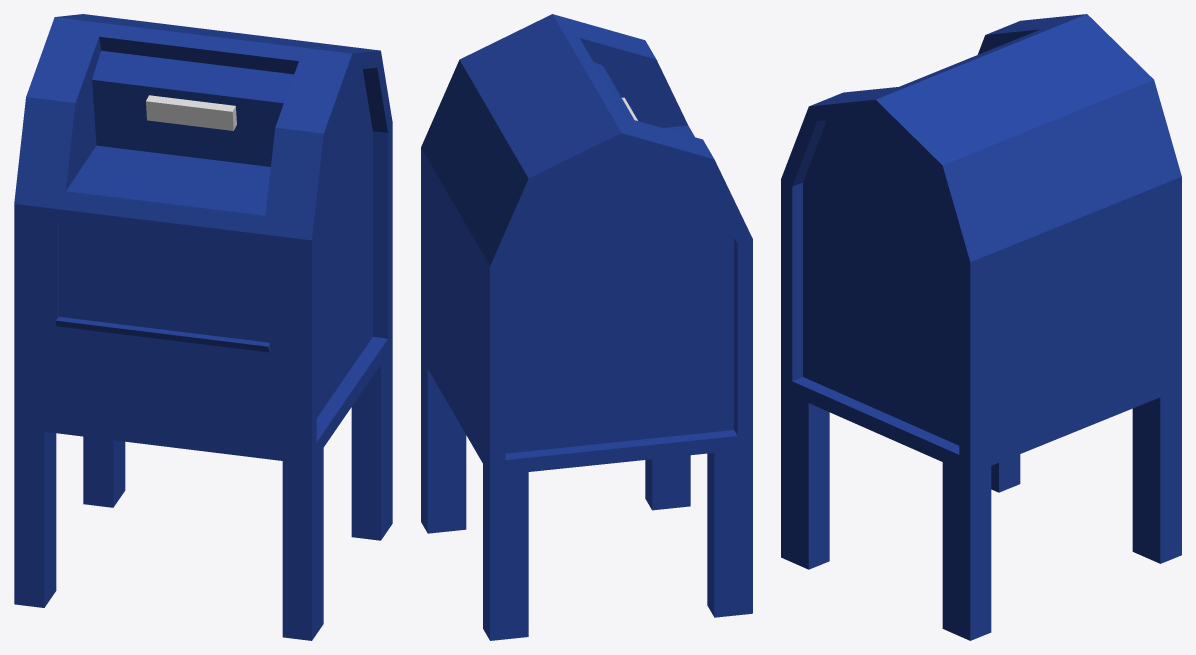
The model's file is Mail.fbx.
The picture shows the model from 3 angles, left to right: view 1: azimuth 30°, elevation 25°; view 2: azimuth 150°, elevation 25°; view 3: azimuth 270°, elevation 25°; orthographic projection. The views are drawn at different scales.
Visible parts, largest first — view 1: Mail; view 2: Mail; view 3: Mail.
Boxes of the visible parts, x1,y1,x2,y2 form: Mail: (14, 14, 392, 640); Mail: (421, 14, 752, 640); Mail: (781, 14, 1181, 640).
Bounding box in the file's own units: 67.63 × 93.15 × 67.73.
